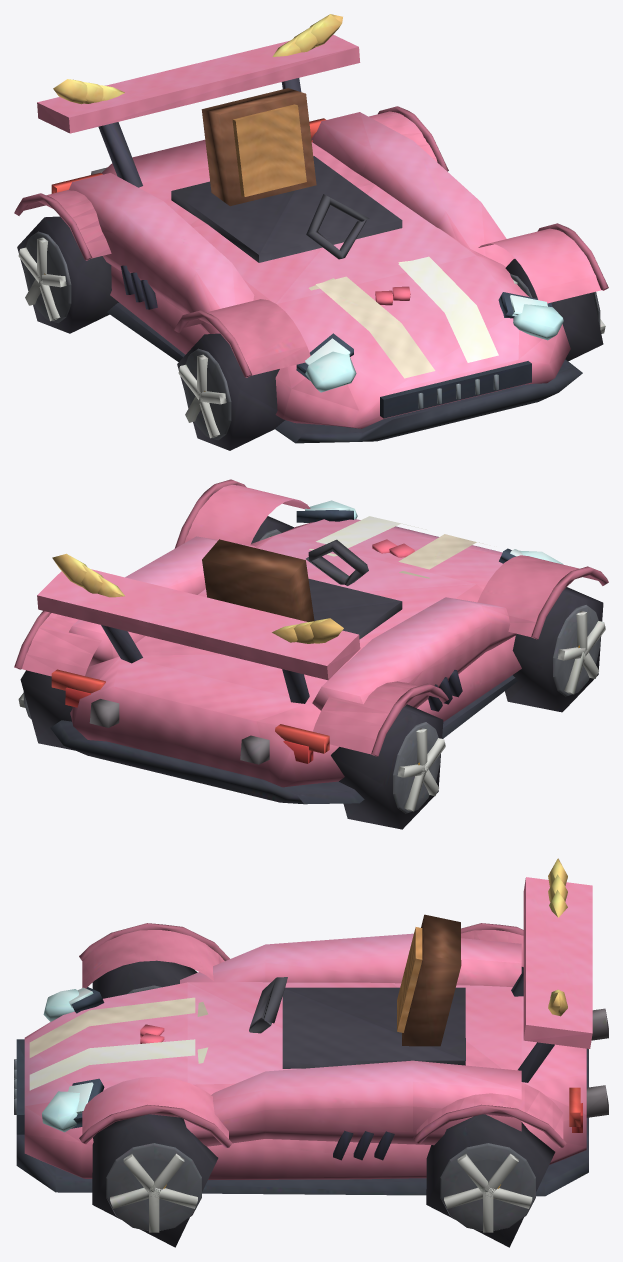
File: kart_blossom.glb
3 renders of one model, top to bottom at view 1: azimuth 30°, elevation 25°; view 2: azimuth 150°, elevation 25°; view 3: azimuth 270°, elevation 25°, orthographic. The views are drawn at different scales.
Parts seen in each view (by area): view 1: Body, Wheel_L_Front, Wheel_L_Back, Wheel_R_Front; view 2: Body, Wheel_L_Back, Wheel_L_Front, Wheel_R_Back, Wheel_R_Front; view 3: Body, Wheel_R_Front, Wheel_R_Back, Wheel_L_Front.
Boxes of the visible parts, bbox=[...] form: Body: bbox=[14, 14, 608, 443]; Wheel_L_Front: bbox=[177, 333, 285, 450]; Wheel_L_Back: bbox=[17, 216, 118, 333]; Wheel_R_Front: bbox=[505, 259, 605, 361]; Body: bbox=[14, 479, 608, 804]; Wheel_L_Back: bbox=[331, 704, 445, 829]; Wheel_L_Front: bbox=[505, 587, 605, 712]; Wheel_R_Back: bbox=[18, 670, 74, 750]; Wheel_R_Front: bbox=[251, 516, 293, 543]; Body: bbox=[14, 858, 608, 1196]; Wheel_R_Front: bbox=[92, 1114, 218, 1247]; Wheel_R_Back: bbox=[426, 1114, 555, 1247]; Wheel_L_Front: bbox=[92, 960, 197, 998].
Bounding box in the file's own units: 1.79 × 0.9756 × 2.3.
1 material, 1 textured.
